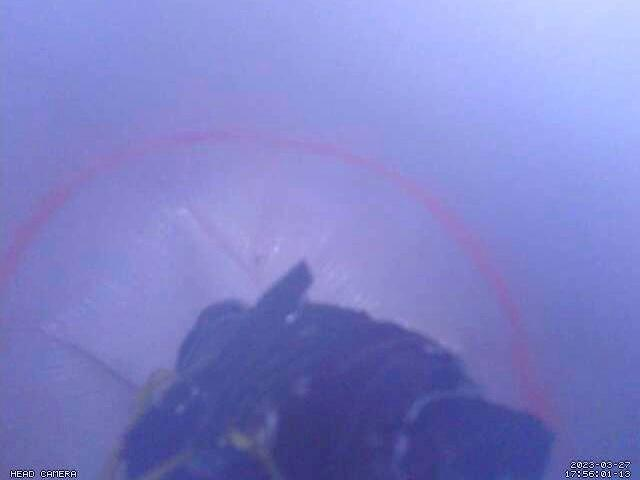head: (0, 127, 559, 430)
